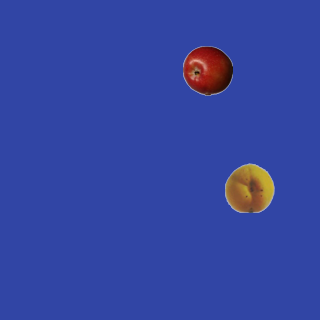Apple Braeburn: (182, 45, 232, 95)
Peach 2: (224, 162, 274, 212)
